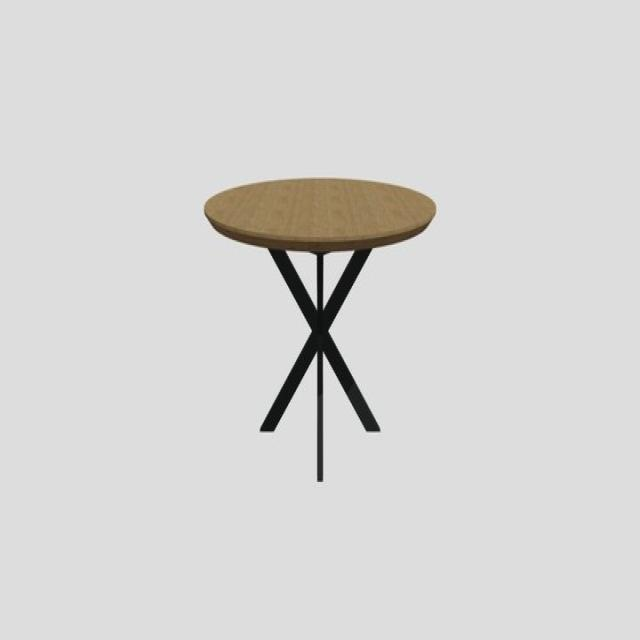table: (205, 175, 436, 481)
